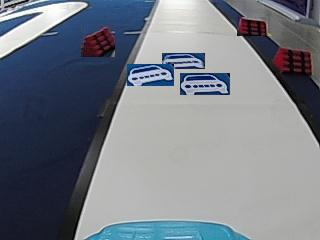bomb: (272, 47, 312, 73)
